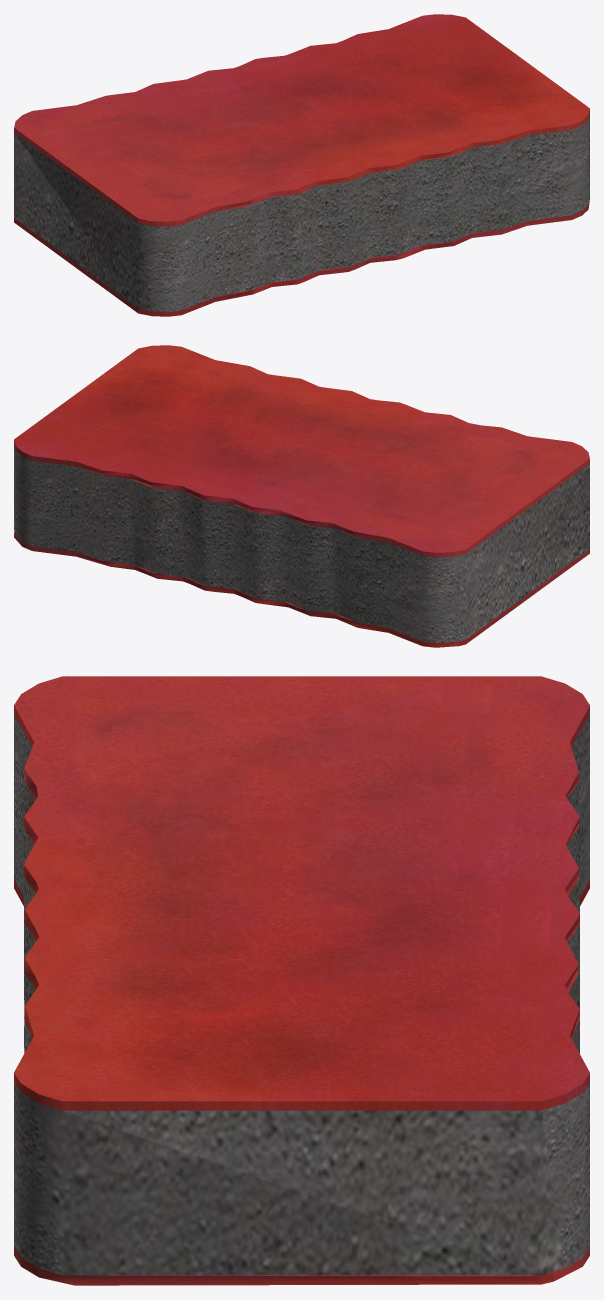
Rendered from Eraser.FBX.
3 renders of one model, top to bottom at view 1: azimuth 30°, elevation 25°; view 2: azimuth 150°, elevation 25°; view 3: azimuth 270°, elevation 25°, orthographic. The views are drawn at different scales.
Visible parts, largest first — view 1: Eraser; view 2: Eraser; view 3: Eraser.
Part boxes in pixels (x1,y1,x2,y2): Eraser: (14,14,589,316); Eraser: (14,345,589,647); Eraser: (14,676,589,1285).
Bounding box in the file's own units: 18.93 × 3.79 × 10.81.
Materials: 1 (1 with a texture image).
